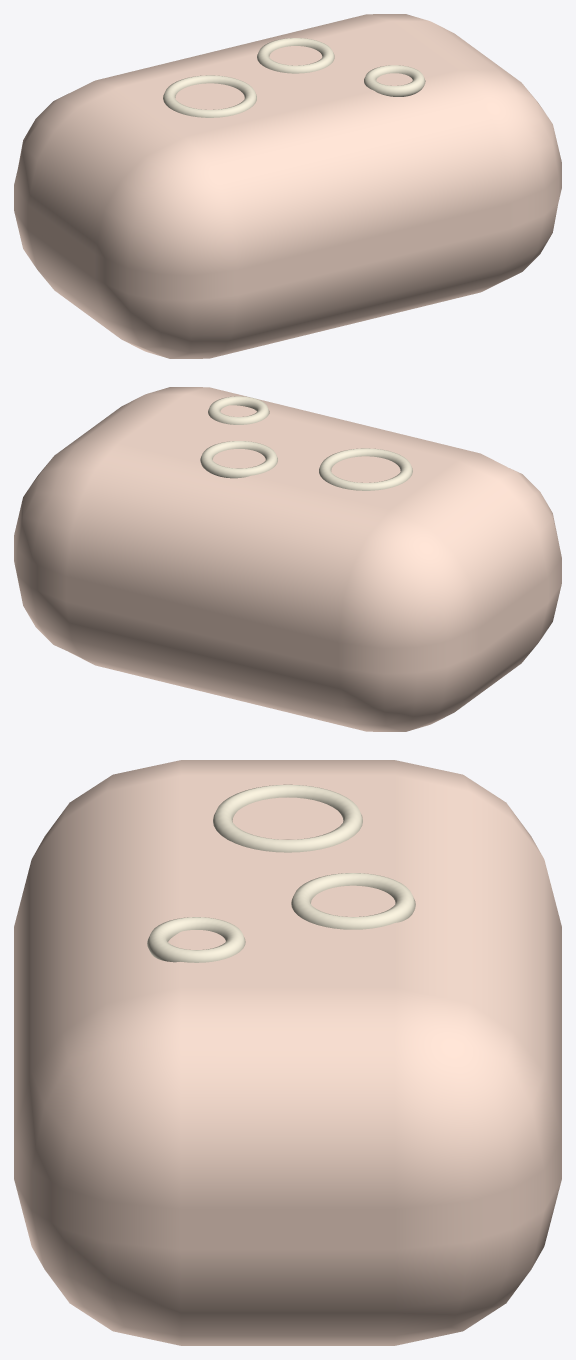
Rendered from SOAP.glb.
The picture shows the model from 3 angles, top to bottom: view 1: azimuth 30°, elevation 25°; view 2: azimuth 150°, elevation 25°; view 3: azimuth 270°, elevation 25°; orthographic projection. The views are drawn at different scales.
Visible parts, largest first — view 1: SOAP; view 2: SOAP; view 3: SOAP.
Boxes of the visible parts, box(x1,y1,x2,y2) form: SOAP: box(14, 14, 561, 358); SOAP: box(14, 387, 561, 731); SOAP: box(14, 760, 561, 1345).
Bounding box in the file's own units: 0.32 × 0.1485 × 0.21.
